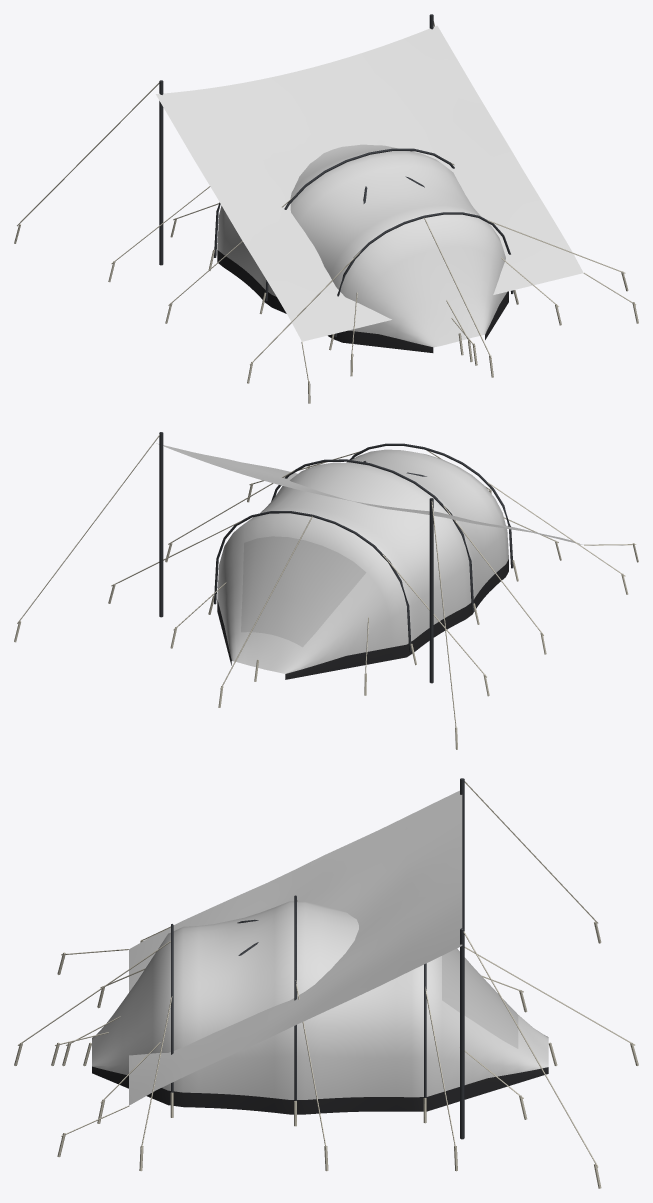
The model's file is tents.glb.
The picture shows the model from 3 angles, top to bottom: view 1: azimuth 30°, elevation 25°; view 2: azimuth 150°, elevation 25°; view 3: azimuth 270°, elevation 25°; orthographic projection. The views are drawn at different scales.
Visible parts, largest first — view 1: tarp_LOD0, tunnel3_LOD0, dome2_LOD0; view 2: tunnel3_LOD0, tarp_LOD0, dome2_LOD0; view 3: tunnel3_LOD0, tarp_LOD0, dome2_LOD0.
Boxes of the visible parts, box(x1,y1,x2,y2) form: tarp_LOD0: box(14, 14, 638, 403); tunnel3_LOD0: box(108, 144, 628, 383); dome2_LOD0: box(170, 176, 561, 376); tunnel3_LOD0: box(108, 443, 628, 707); tarp_LOD0: box(14, 432, 638, 749); dome2_LOD0: box(170, 461, 561, 695); tunnel3_LOD0: box(14, 895, 638, 1171); tarp_LOD0: box(51, 778, 601, 1188); dome2_LOD0: box(62, 919, 527, 1123).
Size of what is drawn, in the model's own units: 4.73 by 1.9 by 5.06.
